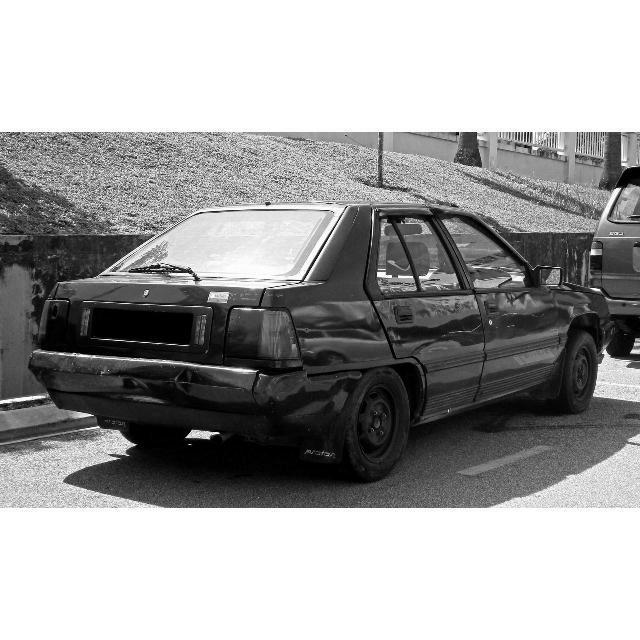rear-bumper-dent: (43, 338, 269, 414)
